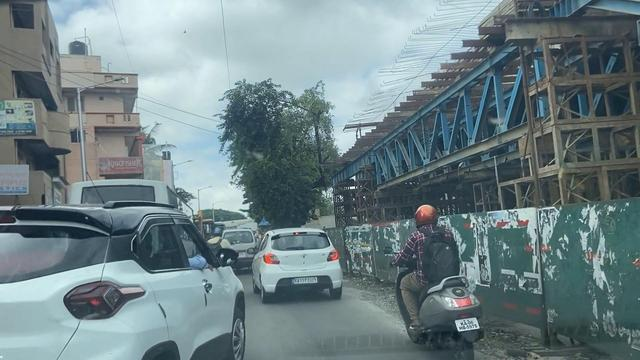LMV: (23, 204, 238, 360), (407, 209, 481, 356), (261, 230, 338, 295)
